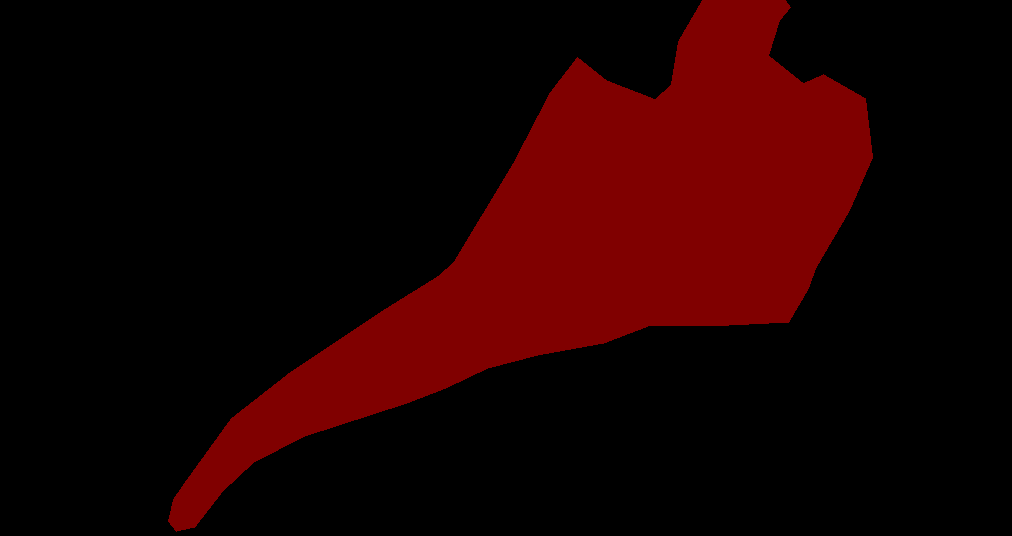fire: (168, 0, 872, 531)
